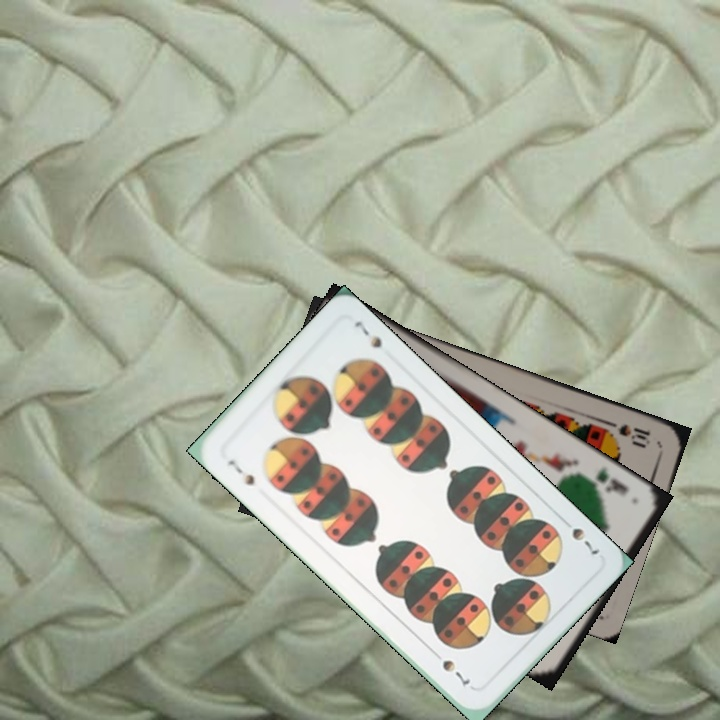GK: (583, 463, 632, 498)
S10: (603, 416, 653, 448)
S7: (567, 523, 603, 558), (223, 456, 257, 489)
